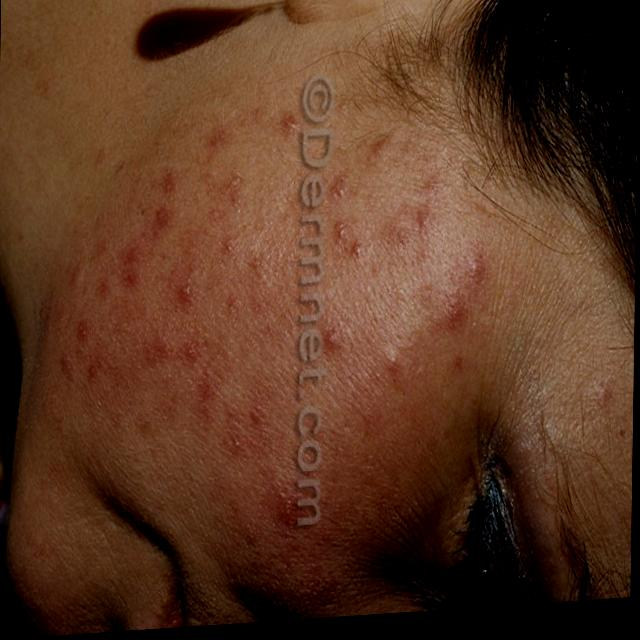blackheads: (240, 255, 279, 301), (275, 106, 308, 156), (458, 248, 488, 299), (68, 308, 100, 352), (221, 168, 253, 210), (379, 349, 412, 389), (149, 200, 177, 246), (320, 321, 351, 362), (590, 381, 622, 420), (328, 219, 356, 259), (172, 276, 202, 311), (349, 235, 373, 275), (178, 336, 206, 370), (328, 180, 352, 215)
